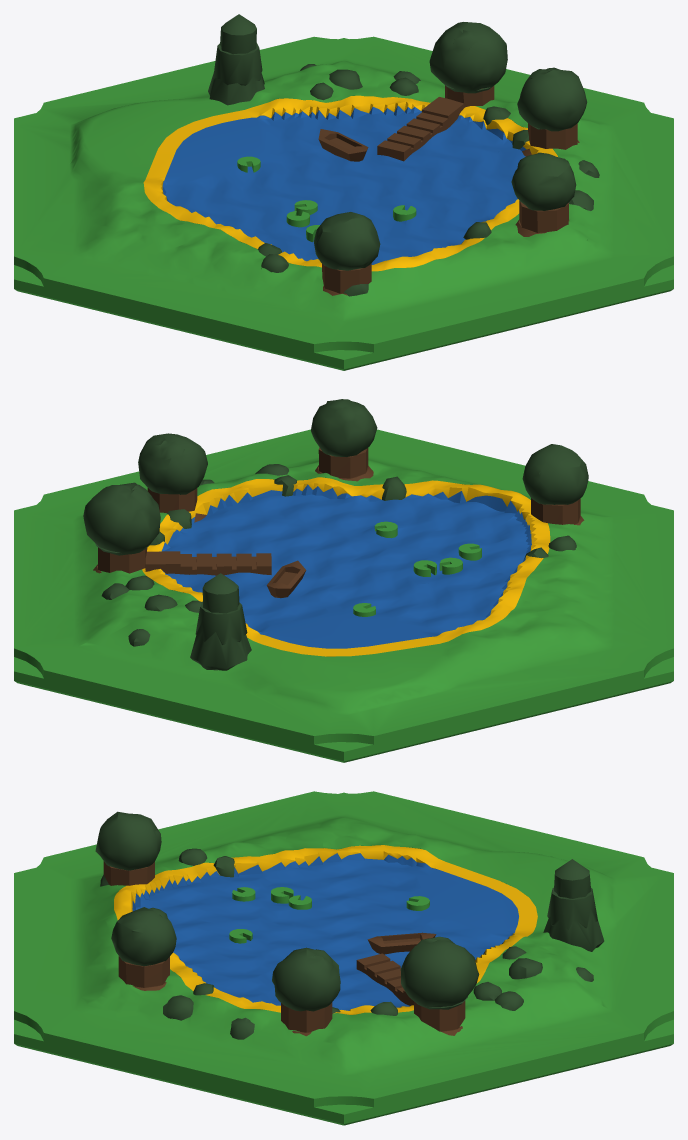
Rendered from wasser_1.glb.
3 renders of one model, top to bottom at view 1: azimuth 30°, elevation 25°; view 2: azimuth 150°, elevation 25°; view 3: azimuth 270°, elevation 25°, orthographic.
Visible parts, largest first — view 1: wasser_1; view 2: wasser_1; view 3: wasser_1.
Part boxes in pixels (bbox=[...]): wasser_1: bbox=[14, 14, 673, 370]; wasser_1: bbox=[14, 399, 673, 762]; wasser_1: bbox=[14, 791, 673, 1125].
Size of the model in its own units: 65.24 by 10.56 by 56.5.
